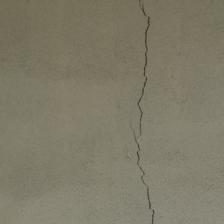Crack: (0, 0, 81, 94), (25, 45, 135, 113)
